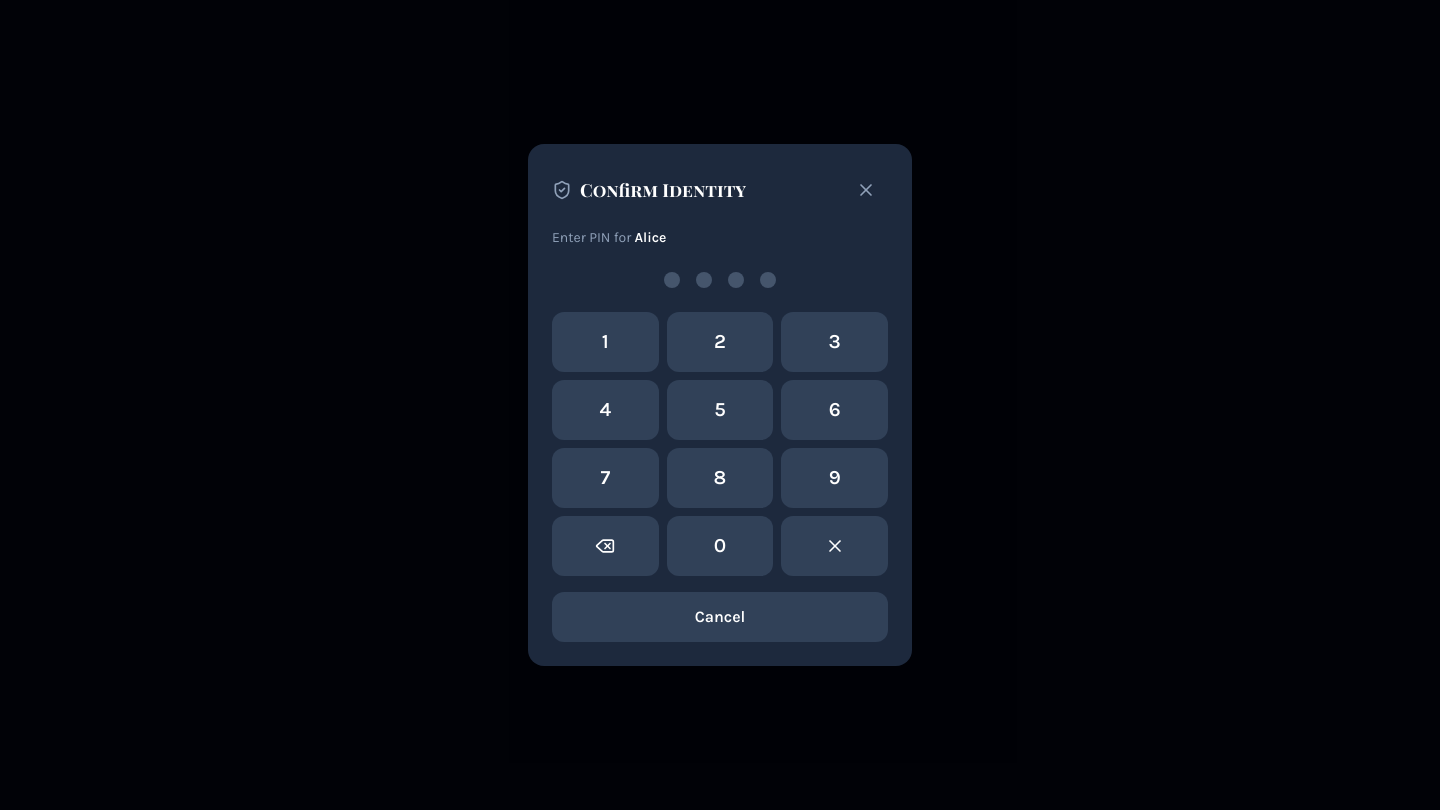
Test: PinGate › shows a calm countdown message when the PIN is locked
Step 1. Click the button "1" → (605, 342), box [552,312,659,372]
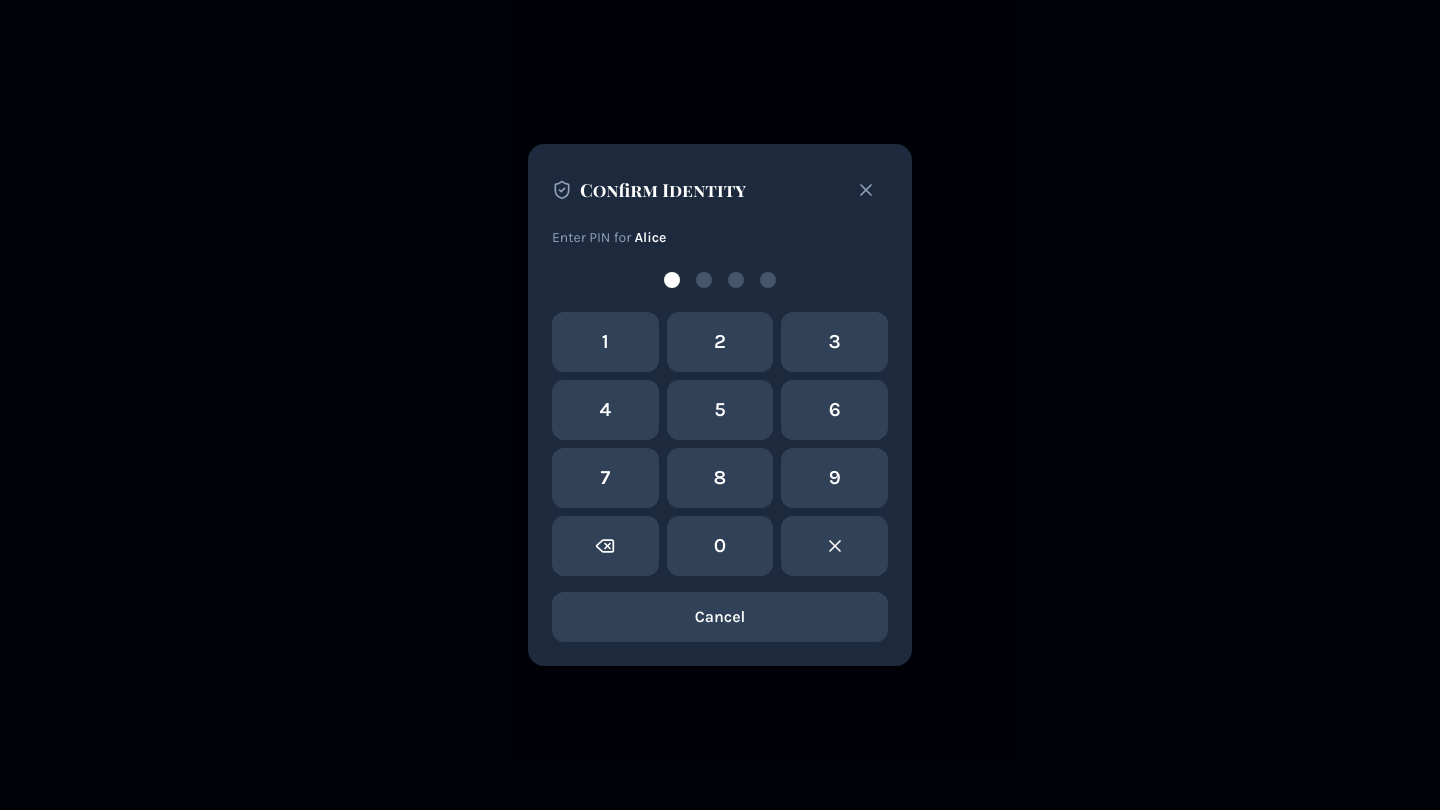
Step 2. Click the button "2" → (720, 342), box [667,312,773,372]
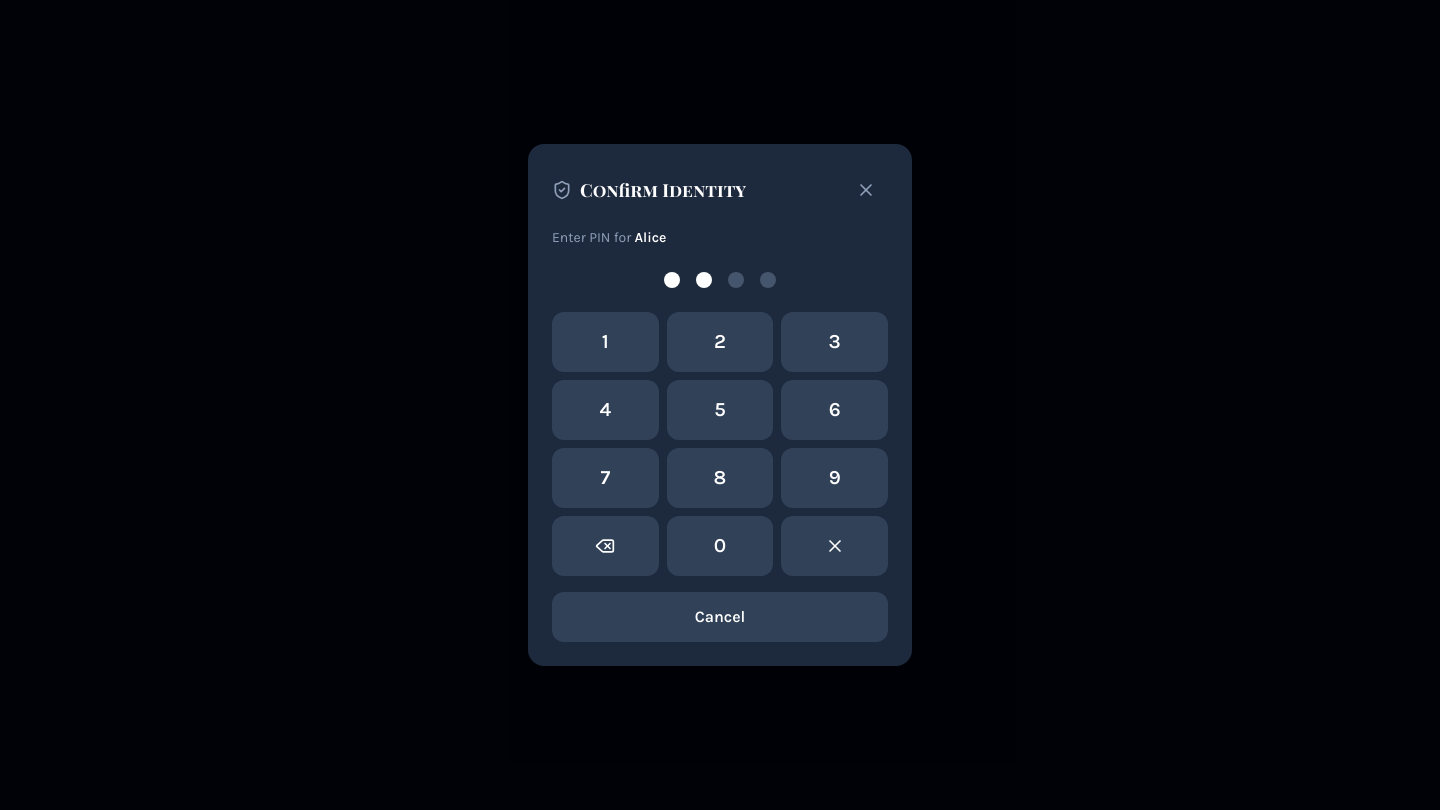
Step 3. Click the button "3" → (835, 342), box [781,312,888,372]
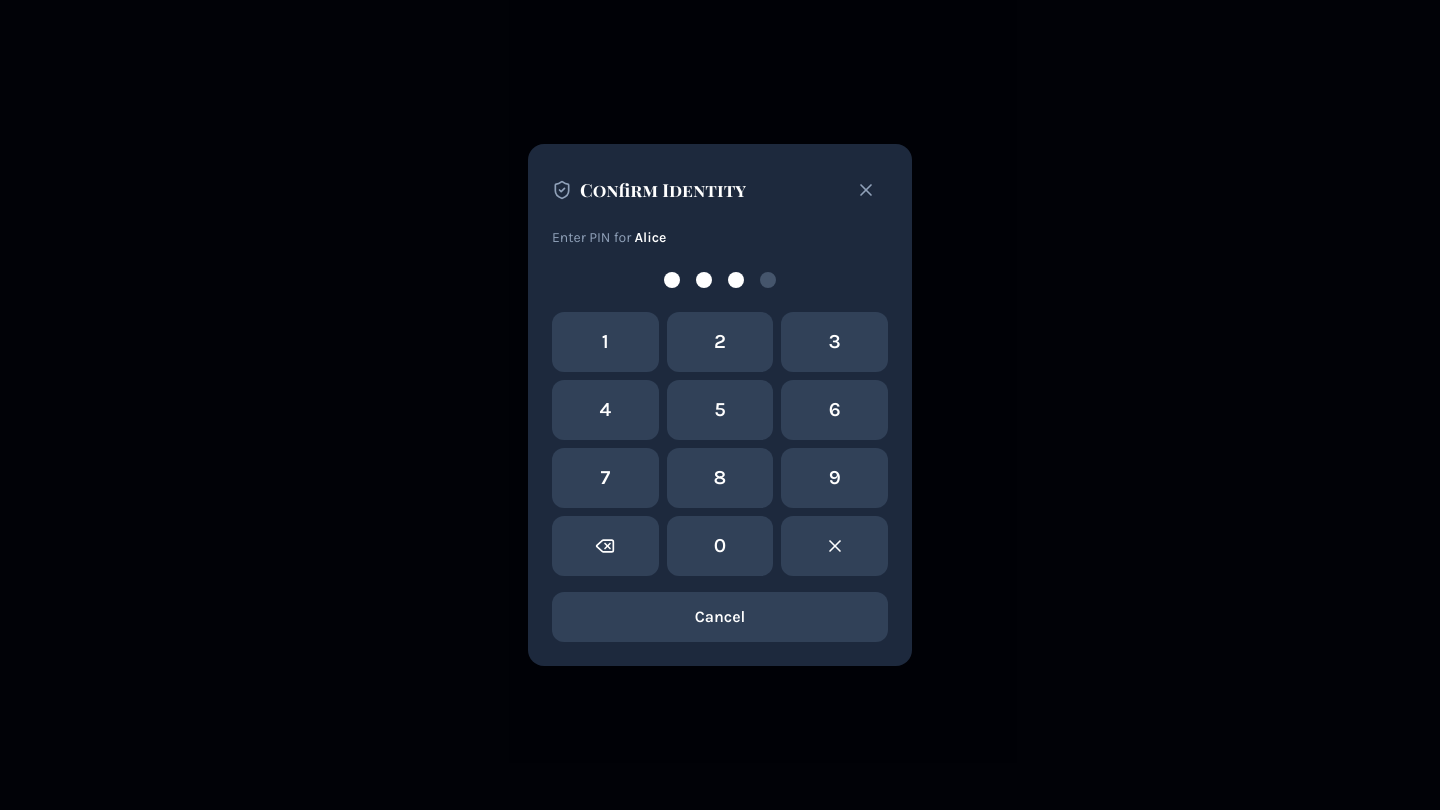
Step 4. Click the button "4" → (605, 410), box [552,380,659,440]
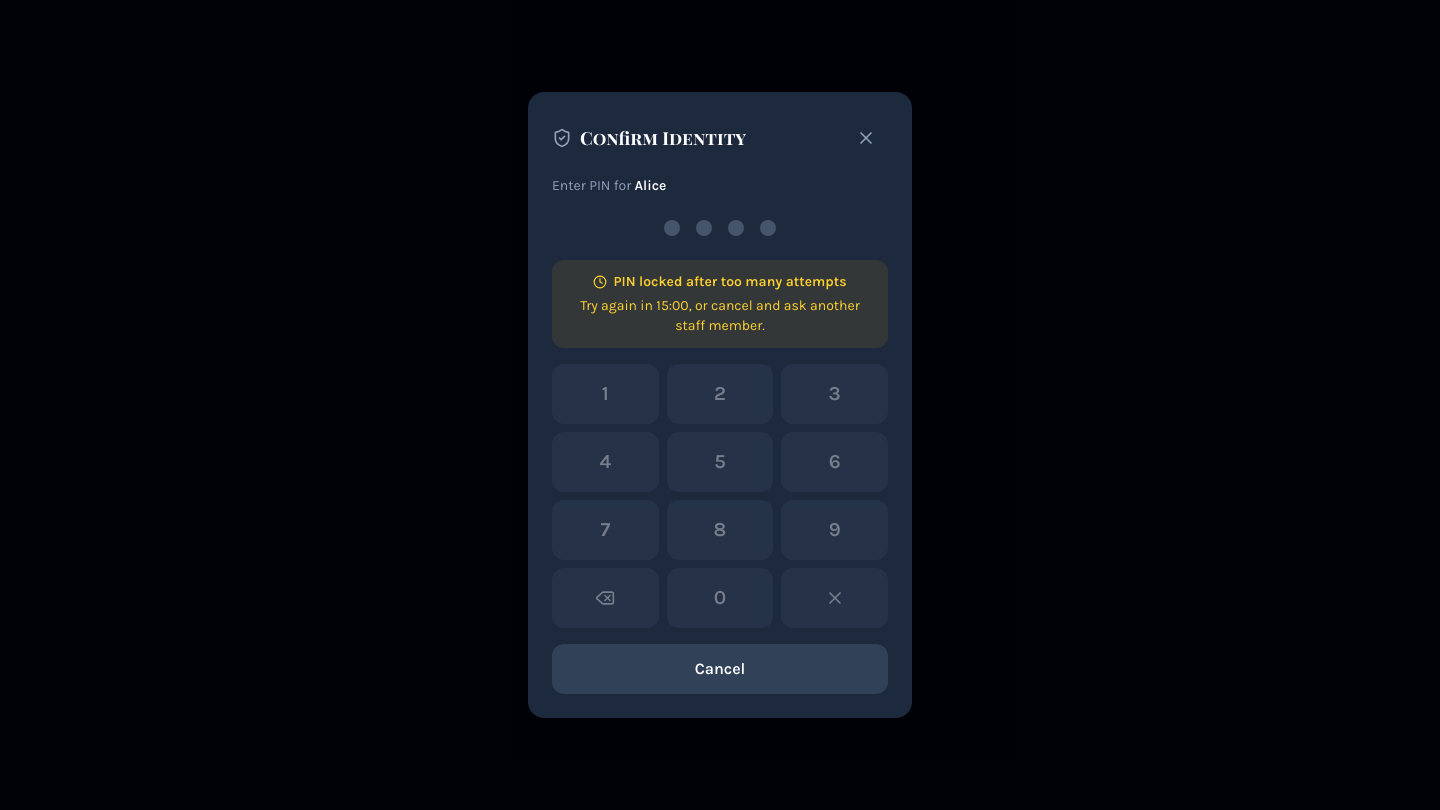
Expected: the message shows "locked after too many attempts", [614,273,846,290]
Expected: the message shows "15:00", [656,297,689,314]
